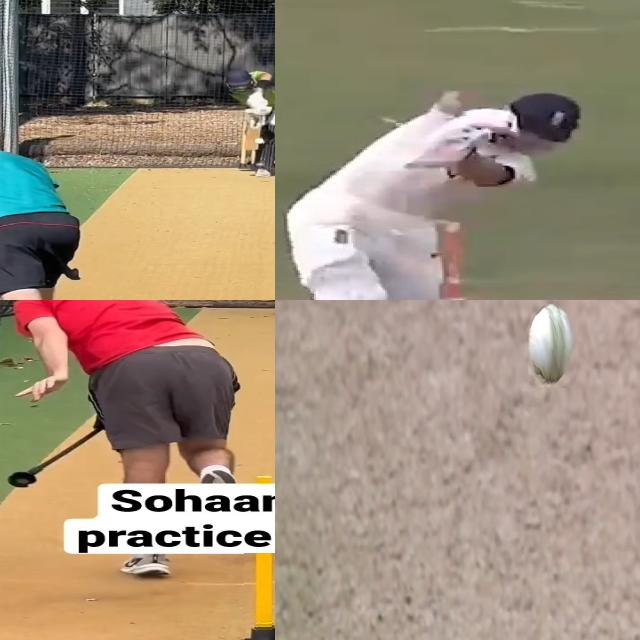Cricket ball: (527, 300, 576, 387), (254, 137, 266, 145)
Stumps: (237, 553, 275, 640)
